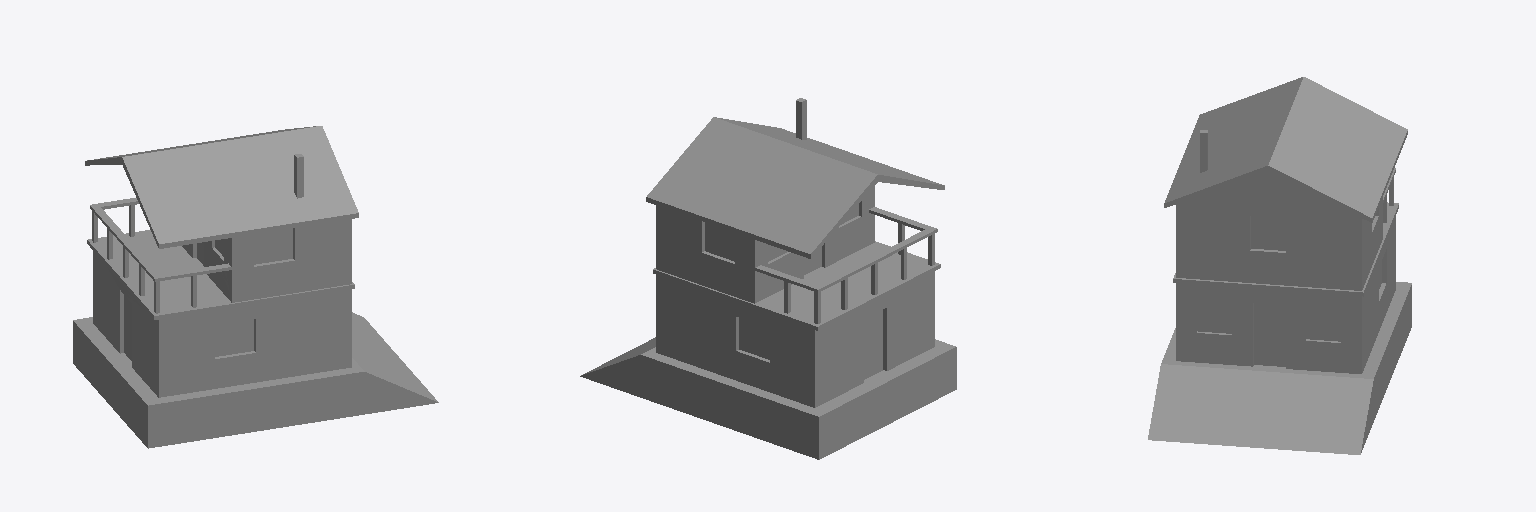
Rendered from BuildingOBJ11.obj.
The picture shows the model from 3 angles: view 1: azimuth 30°, elevation 25°; view 2: azimuth 150°, elevation 25°; view 3: azimuth 270°, elevation 25°; orthographic projection.
Parts seen in each view (by area): view 1: cabin_004.007_Untitled.014; view 2: cabin_004.007_Untitled.014; view 3: cabin_004.007_Untitled.014.
Part boxes in pixels (x1,y1,x2,y2): cabin_004.007_Untitled.014: (73, 126, 438, 448); cabin_004.007_Untitled.014: (580, 98, 956, 459); cabin_004.007_Untitled.014: (1148, 77, 1411, 454).
Size of the model in its own units: 3.81 by 3.12 by 2.95.